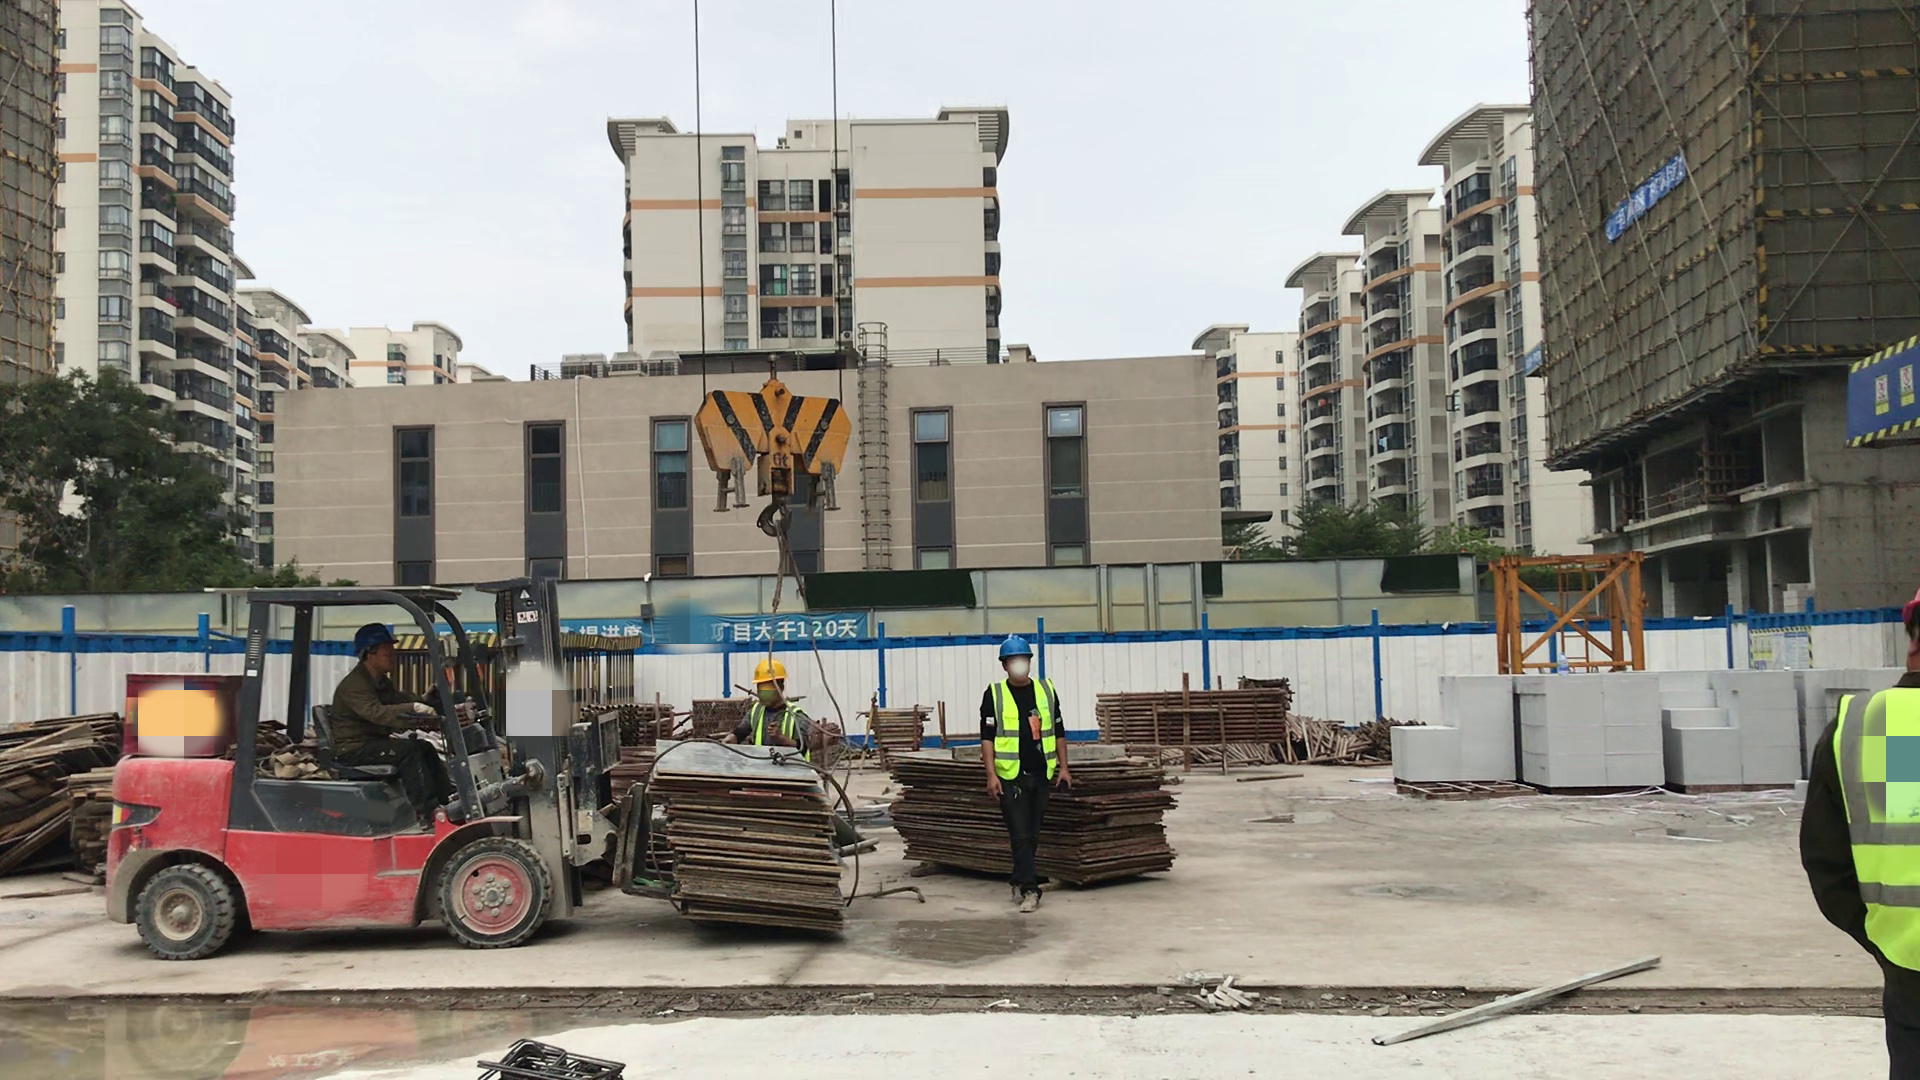board: (652, 741, 855, 938), (904, 756, 1166, 879)
brick: (1665, 668, 1800, 789), (1521, 676, 1663, 784), (1390, 680, 1512, 788)
helmet: (355, 620, 393, 646), (755, 654, 783, 684), (997, 635, 1031, 660)
hook: (694, 356, 851, 537)
person: (1800, 580, 1920, 1079), (978, 635, 1073, 918), (329, 622, 455, 828), (726, 665, 812, 769)
slogan: (573, 619, 862, 649), (1604, 151, 1688, 243)
vest: (1834, 688, 1917, 976), (987, 679, 1061, 781)
